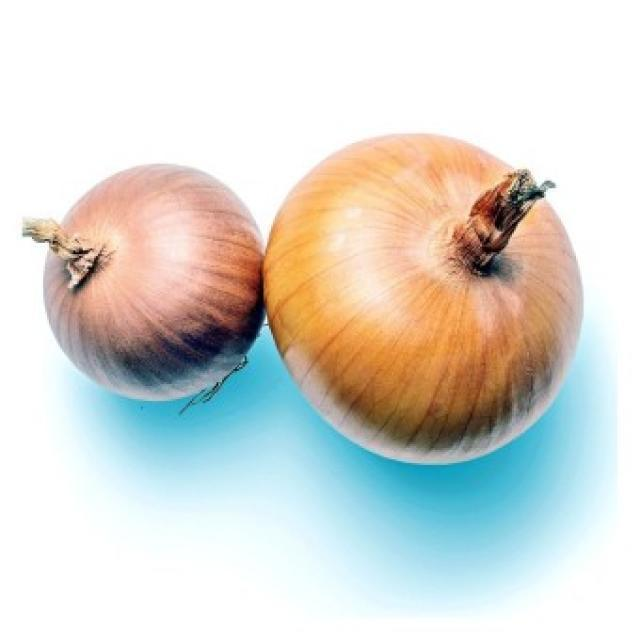onion: (262, 133, 585, 468), (21, 164, 267, 403)
